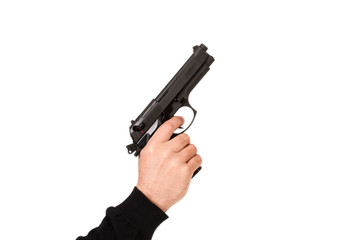gun: (124, 41, 218, 181)
